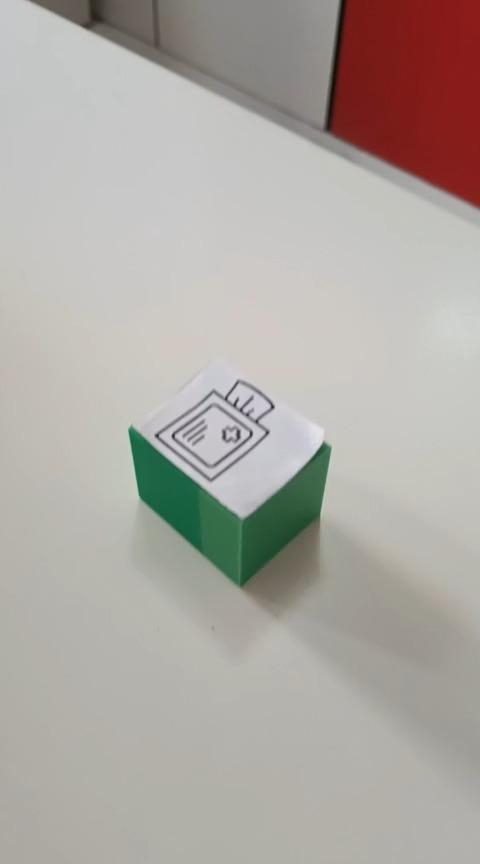Gauze: (127, 357, 332, 588)
